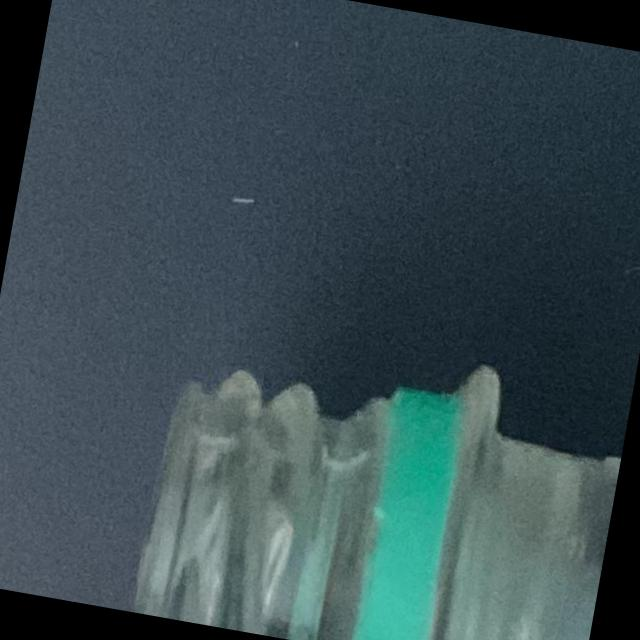open-cap: (121, 323, 503, 640)
